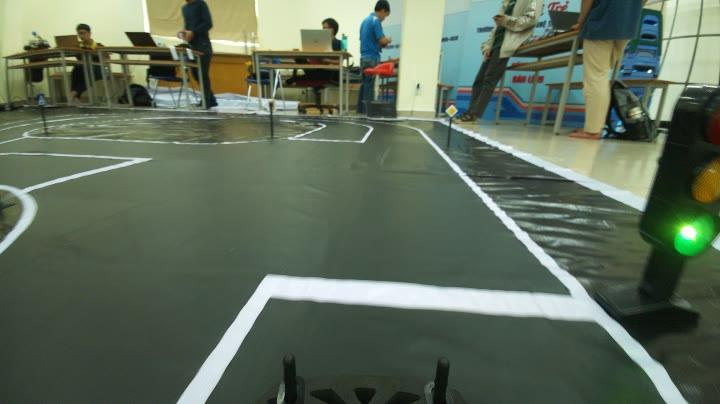trafficlight: (640, 69, 720, 288)
